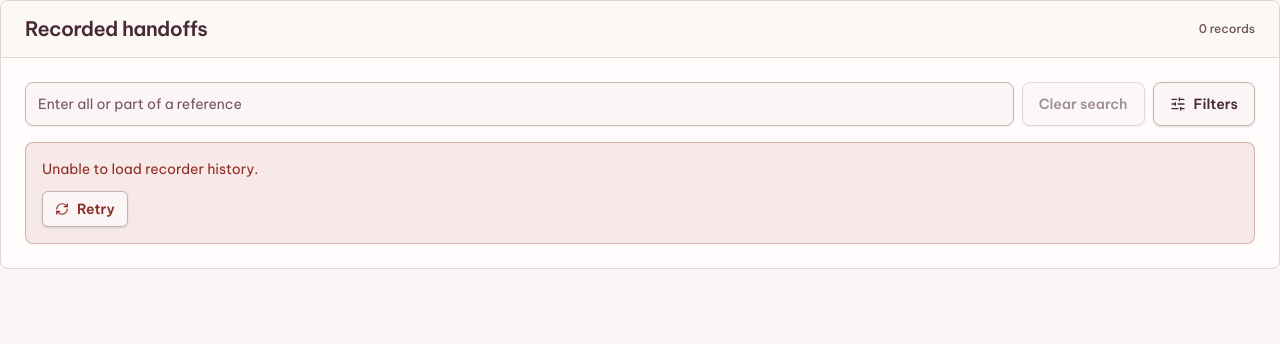
RecorderHistory › shows an empty state and retries a failed history request
expect the text "Unable to load recorder history." is shown: met, box x1=42 y1=160 x2=258 y2=178
Click the button "Retry".
click(85, 209)  # box x1=42 y1=191 x2=128 y2=227
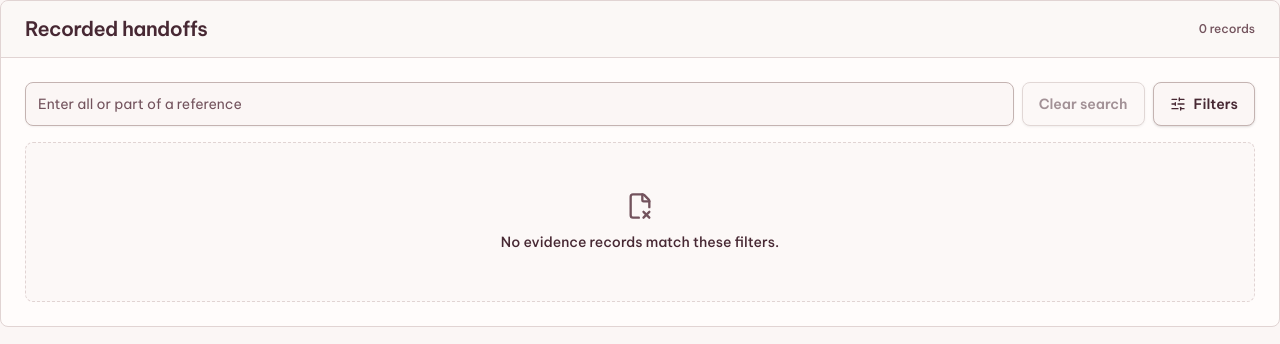
expect the text "No evidence records match these filters." is shown: met, box x1=501 y1=232 x2=779 y2=252
